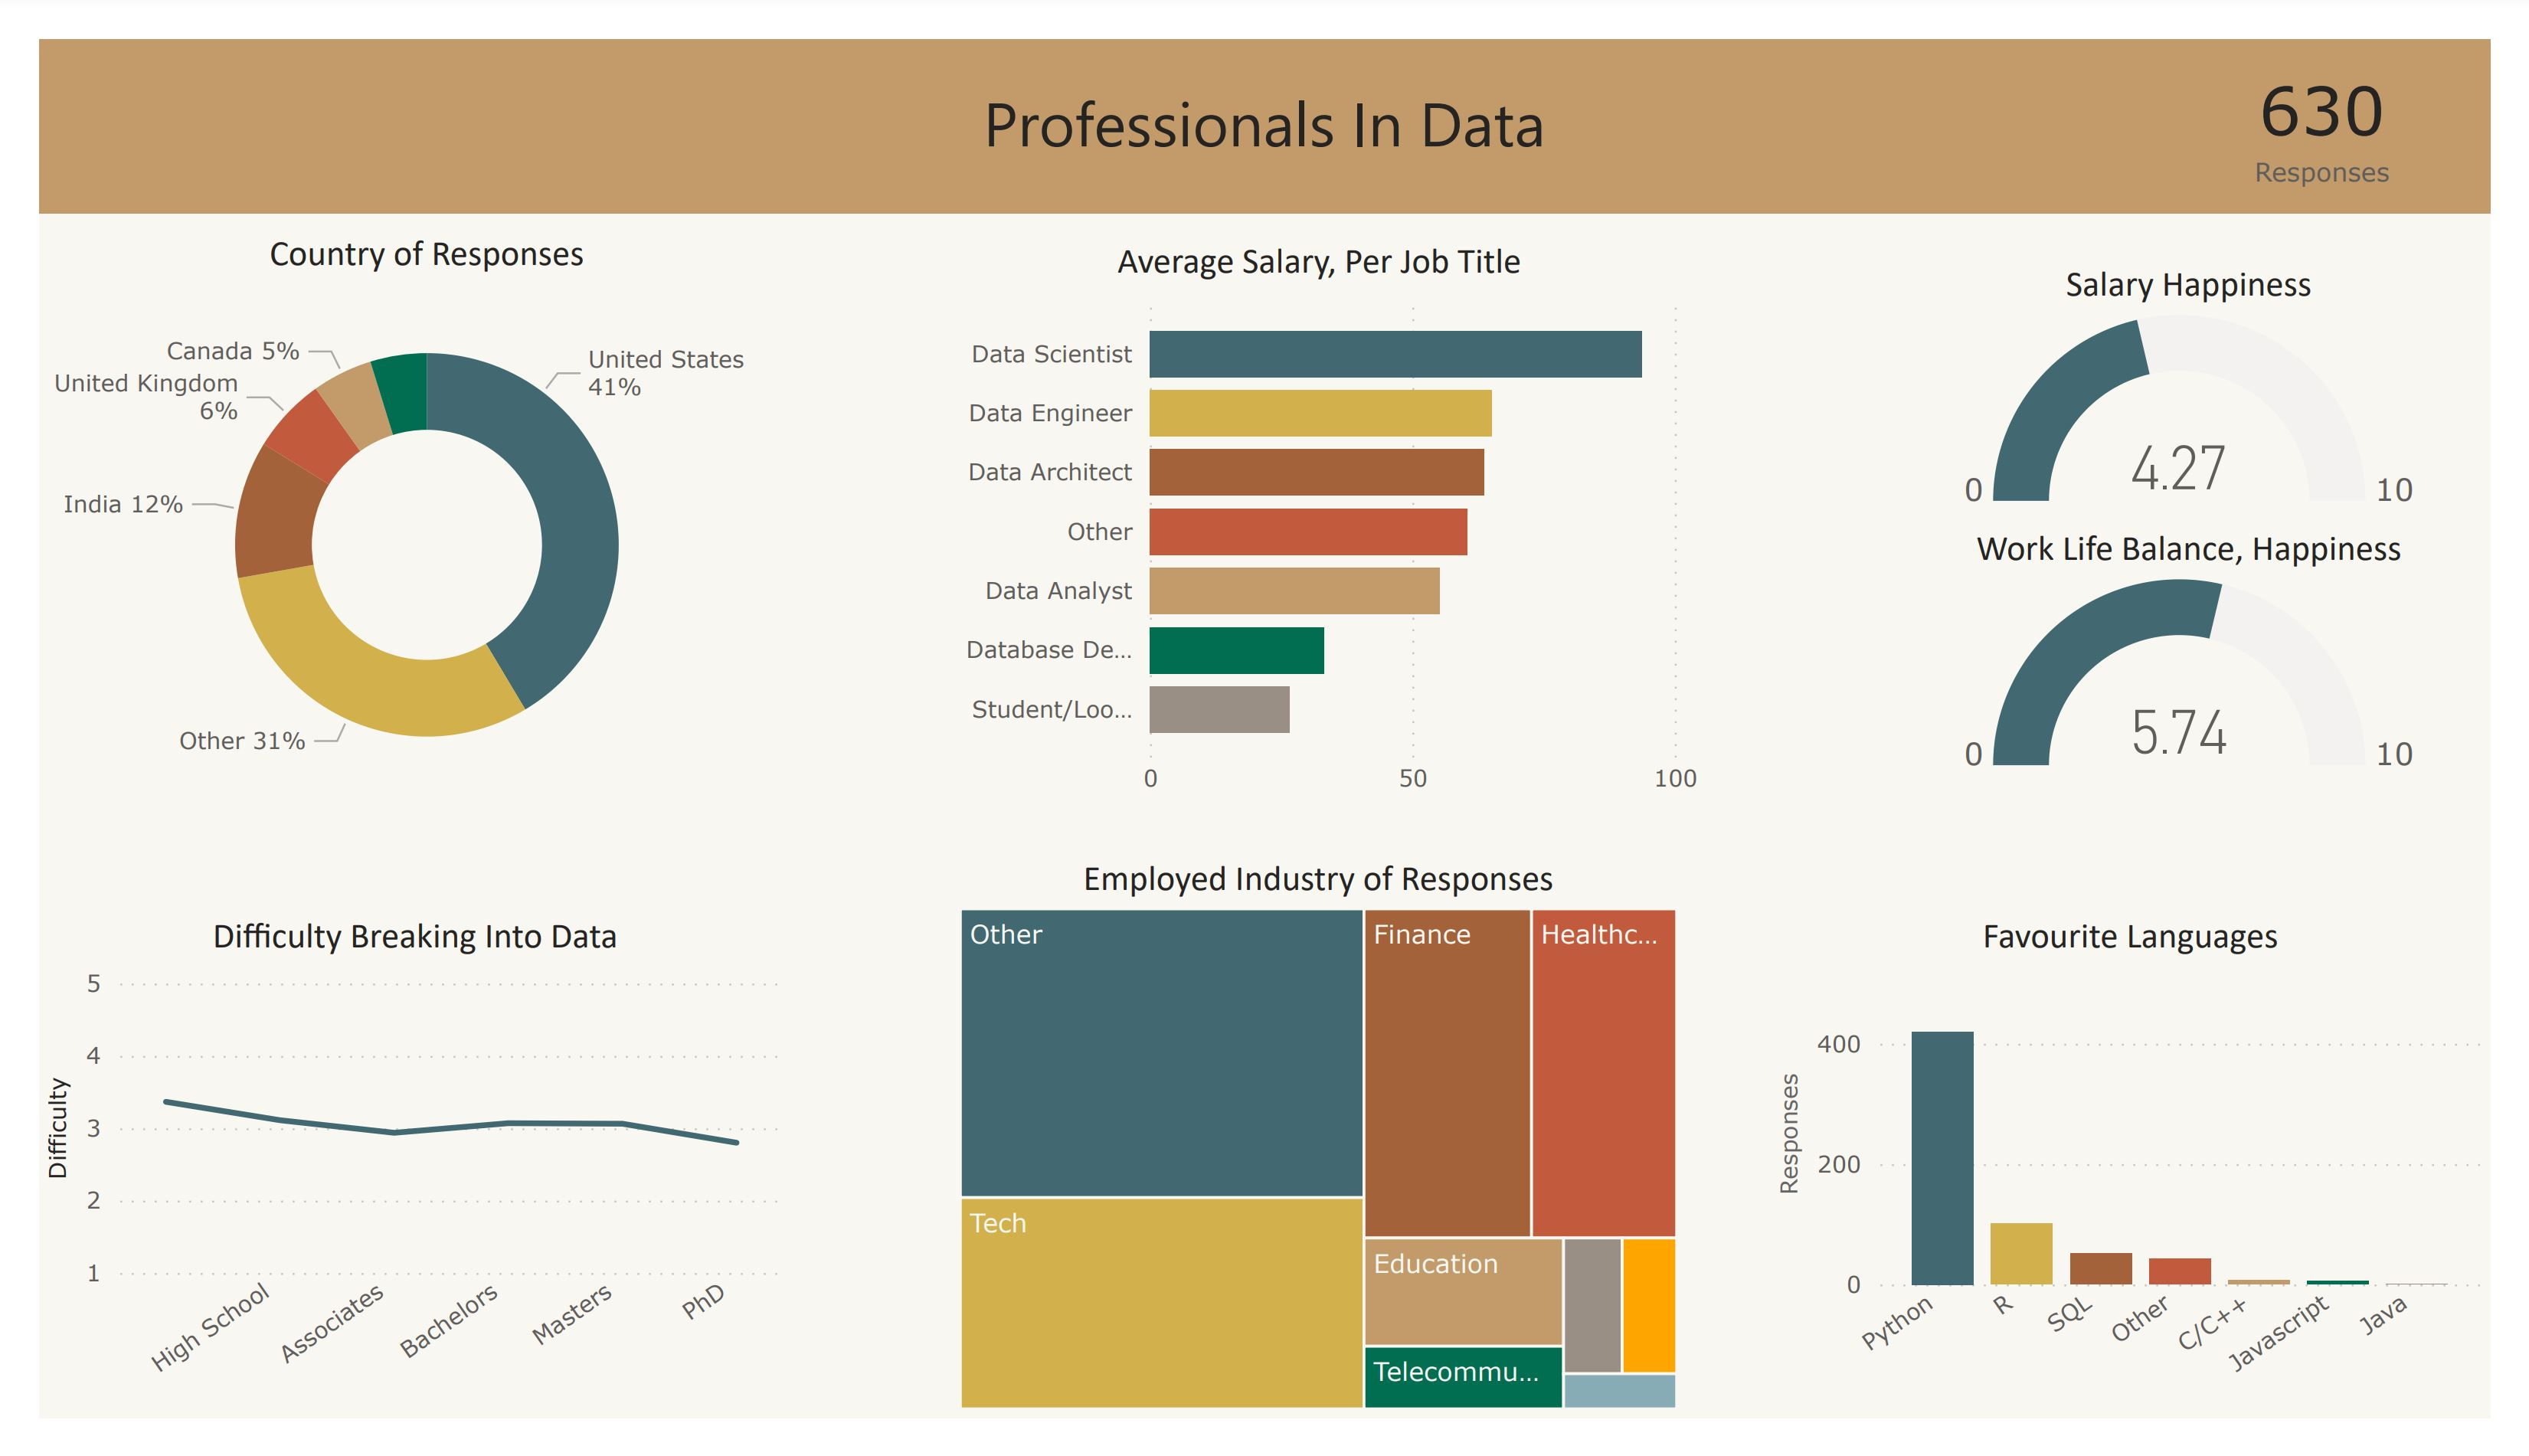

Layout of this report page (visuals, bound fields, positions):
{"tool":"powerbi","page":{"name":"Page 1","canvas":[1280,720],"ordinal":0},"visuals":[{"type":"textbox","box":[0,0,1280.3,90.6],"z":0},{"type":"barChart","title":"Average Salary, Per Job Title","fields":{"Category":["Data Professional Survey.Job Title"],"Y":["Avg(Data Professional Survey.Average Salary)"],"Series":["Data Professional Survey.Job Title"]},"box":[466.2,103.8,405,298.8],"z":1000},{"type":"columnChart","title":"Favourite Languages","fields":{"Category":["Data Professional Survey.Fav Program Lang"],"Y":["CountNonNull(Data Professional Survey.Unique ID)"],"Series":["Data Professional Survey.Fav Program Lang"]},"box":[903.7,455.8,376.5,264.9],"z":2000},{"type":"gauge","title":"Salary Happiness","fields":{"Y":["Avg(Data Professional Survey.Happy Salary?)"],"MinValue":["Min(Data Professional Survey.Happy Salary?)1"],"MaxValue":["Max(Data Professional Survey.Happy Salary?)2"]},"box":[965,116.2,315,135],"z":3000},{"type":"gauge","title":"Work Life Balance, Happiness","fields":{"Y":["Avg(Data Professional Survey.Happy WorkLifeBalance?)"],"MinValue":["Min(Data Professional Survey.Happy WorkLifeBalance?)"],"MaxValue":["Max(Data Professional Survey.Happy WorkLifeBalance?)"]},"box":[965,253.8,315,135],"z":4000},{"type":"treemap","title":"Employed Industry of Responses","fields":{"Group":["Data Professional Survey.Current Industry"],"Values":["Count(Data Professional Survey.Unique ID)"]},"box":[476.2,426.2,383.8,293.8],"z":5000},{"type":"lineChart","title":"Difficulty Breaking Into Data","fields":{"Y":["Avg(Data Professional Survey.Difficult BreakIntoData?)"],"Category":["Data Professional Survey.Highest Education"]},"box":[0,455.8,393.4,264.9],"z":6000},{"type":"card","fields":{"Values":["Count(Data Professional Survey.Unique ID)"]},"box":[1103.8,0,176.2,90],"z":7000},{"type":"donutChart","title":"Country of Responses","fields":{"Category":["Data Professional Survey.Country"],"Y":["CountNonNull(Data Professional Survey.Country)"]},"box":[0,104.7,404.6,304.7],"z":8000}]}

Visuals, with their boxes in screenshot pixels (x1, y1, x2, y2), scaled from the page's 1280x720 canvas onto the 2529x1456 screenshot:
textbox: detection(0, 0, 2528, 183)
"Average Salary, Per Job Title" barChart: detection(921, 210, 1721, 814)
"Favourite Languages" columnChart: detection(1785, 921, 2528, 1455)
"Salary Happiness" gauge: detection(1906, 235, 2528, 508)
"Work Life Balance, Happiness" gauge: detection(1906, 513, 2528, 787)
"Employed Industry of Responses" treemap: detection(941, 862, 1700, 1455)
"Difficulty Breaking Into Data" lineChart: detection(0, 921, 777, 1455)
card - Count(Data Professional Survey.Unique ID): detection(2181, 0, 2528, 182)
"Country of Responses" donutChart: detection(0, 211, 800, 828)
